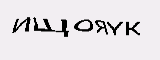С: (42, 19, 55, 40), (54, 22, 66, 39)
У: (62, 23, 75, 39)
Ч: (72, 24, 90, 48)
Ю: (91, 22, 122, 51)
